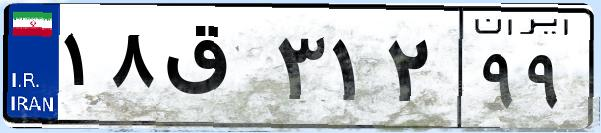1: (330, 28, 385, 110), (57, 26, 110, 100)
2: (385, 28, 445, 110)
3: (270, 28, 330, 110)
8: (110, 28, 158, 98)
9: (475, 38, 525, 113), (525, 38, 570, 115)
ق: (158, 20, 270, 120)
